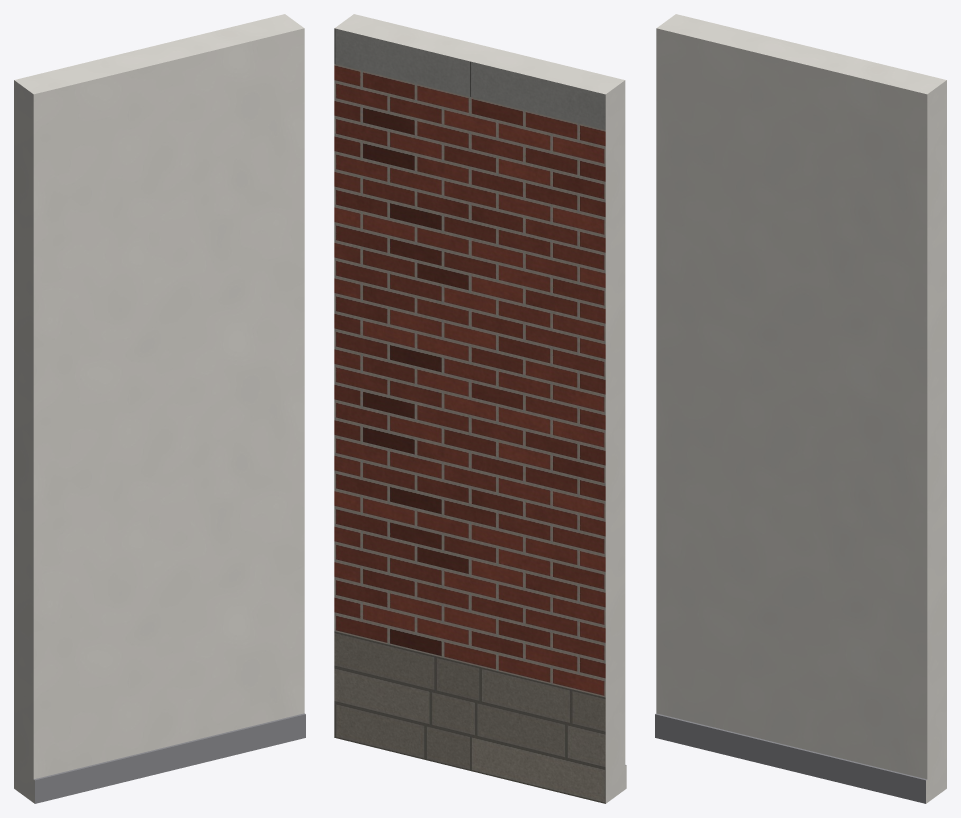
Rendered from wall_120.glb.
3 views of the same model, side by side, from view 1: azimuth 30°, elevation 25°; view 2: azimuth 150°, elevation 25°; view 3: azimuth 330°, elevation 25° (orthographic).
Parts seen in each view (by area): view 1: wall_120-col; view 2: wall_120-col; view 3: wall_120-col.
Part boxes in pixels (x1=…): wall_120-col: x1=14, y1=14, x2=305, y2=803; wall_120-col: x1=334, y1=14, x2=626, y2=803; wall_120-col: x1=655, y1=14, x2=946, y2=803.
Size of the model in its own units: 1.2 by 3 by 0.16.
Materials: 5 (4 with a texture image).
